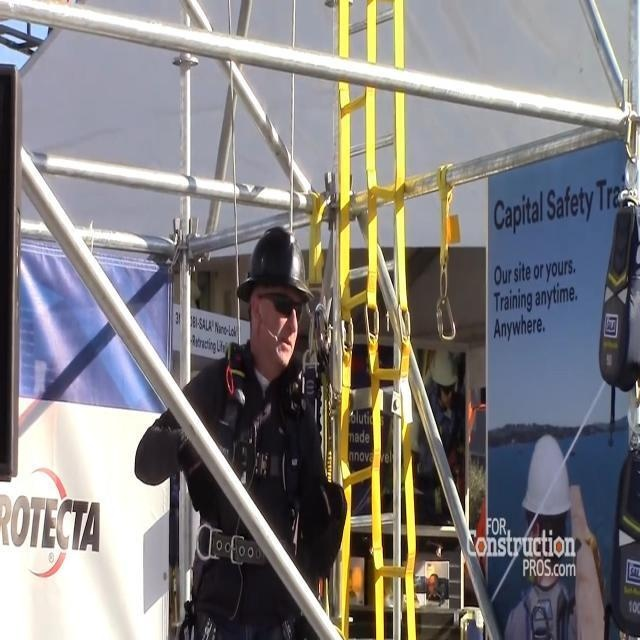Arnes_seguridad: (179, 346, 316, 640)
